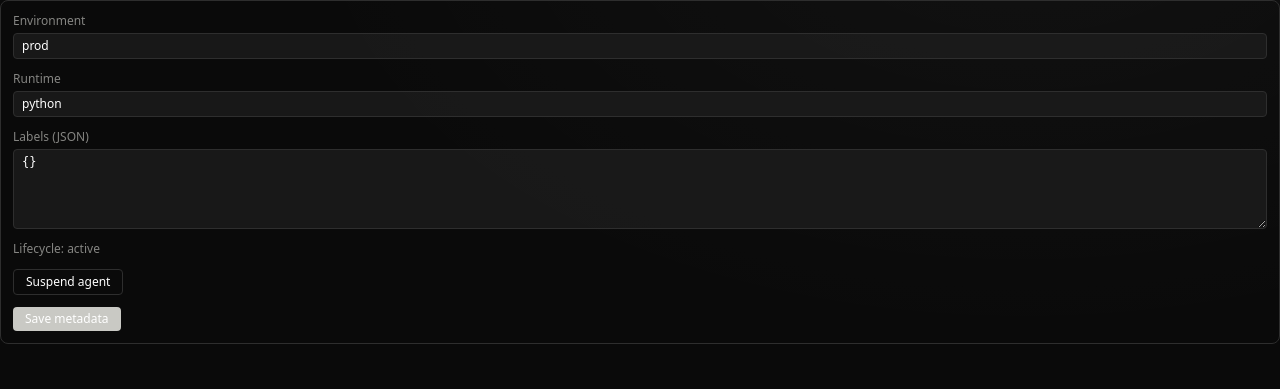
Test: AgentProfileEditor › rejects invalid labels accessibly without saving
Replace the text in the text box labelled "Labels (JSON)" with "[]". click: (640, 189)
box: x1=13 y1=149 x2=1267 y2=229
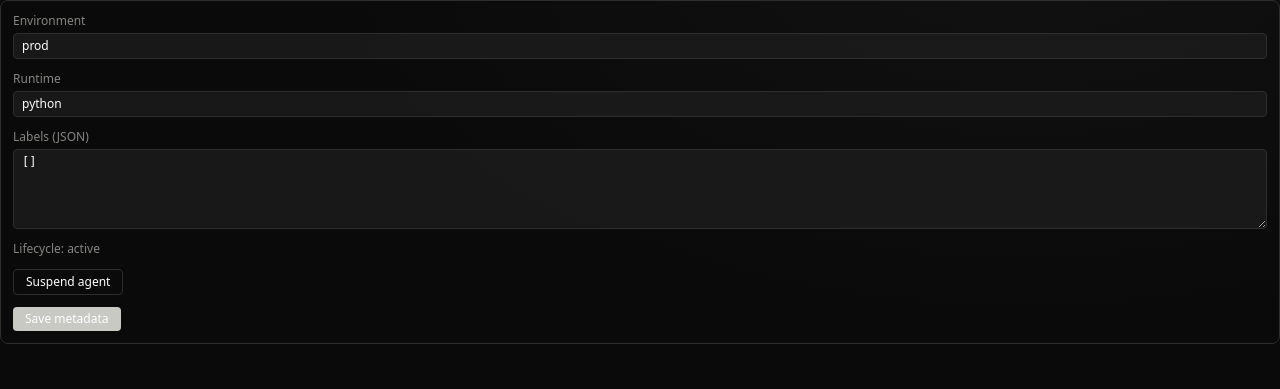
Click the button "Save metadata". click: click(67, 319)
box: x1=13 y1=307 x2=120 y2=331
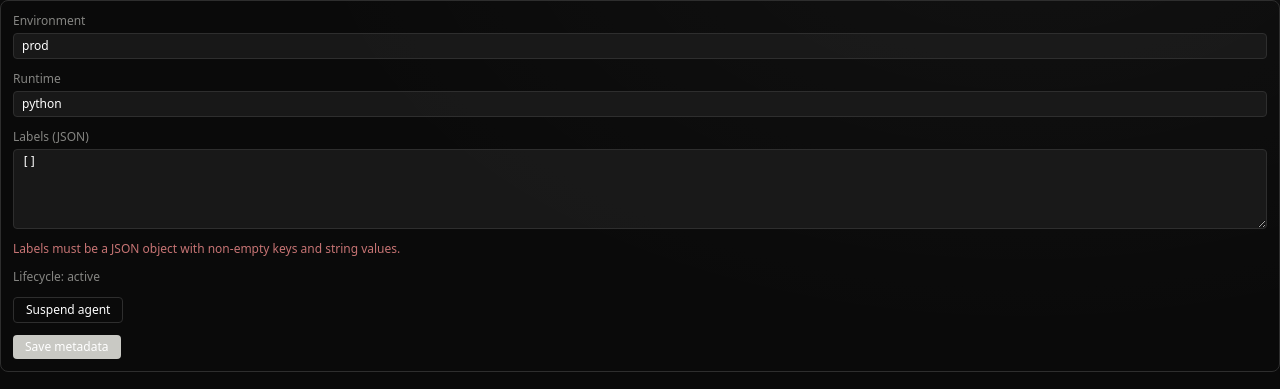
Expected: the message shows "JSON object", x1=13 y1=240 x2=400 y2=257
